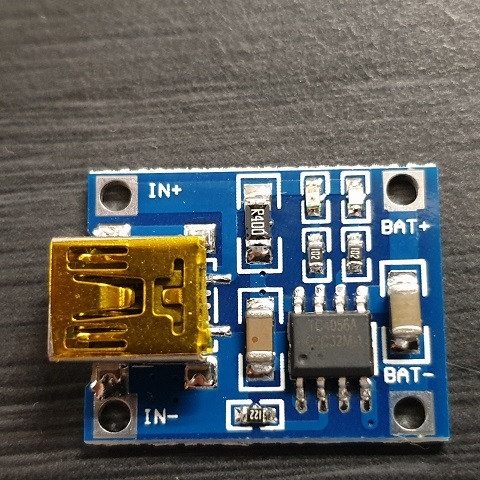batt+: (384, 166, 426, 210)
batt-: (384, 392, 428, 437)
charge: (298, 174, 328, 226)
done: (334, 170, 366, 222)
rprog: (228, 402, 278, 430)
usb: (48, 238, 218, 358)
